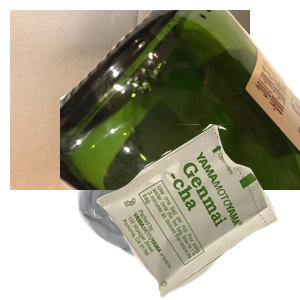cardboard: (10, 10, 250, 190)
glass: (60, 10, 300, 190)
plastic: (75, 154, 248, 300)
trash: (91, 124, 300, 300)
